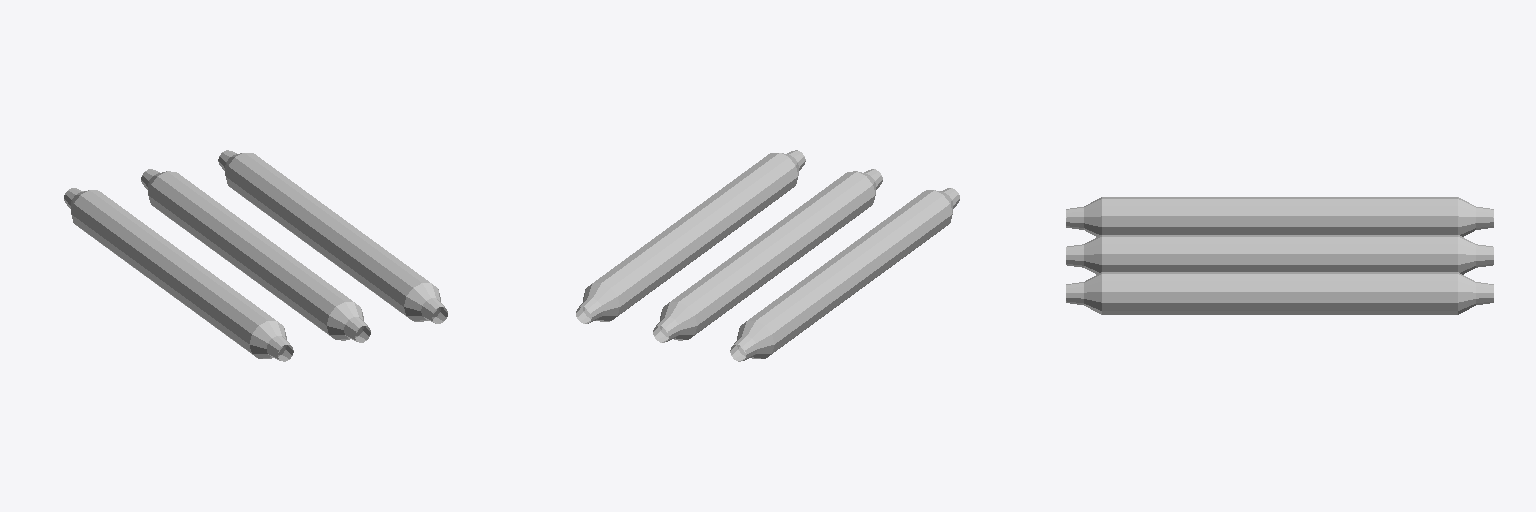
File: LightBulbs.obj
The picture shows the model from 3 angles: view 1: azimuth 30°, elevation 25°; view 2: azimuth 150°, elevation 25°; view 3: azimuth 270°, elevation 25°; orthographic projection.
Parts seen in each view (by area): view 1: Plane.010_Plane.025; view 2: Plane.010_Plane.025; view 3: Plane.010_Plane.025.
Part boxes in pixels (x1,y1,x2,y2): Plane.010_Plane.025: (64, 150, 447, 361); Plane.010_Plane.025: (576, 150, 959, 361); Plane.010_Plane.025: (1066, 197, 1493, 314).
Bounding box in the file's own units: 3.1 × 0.6 × 6.